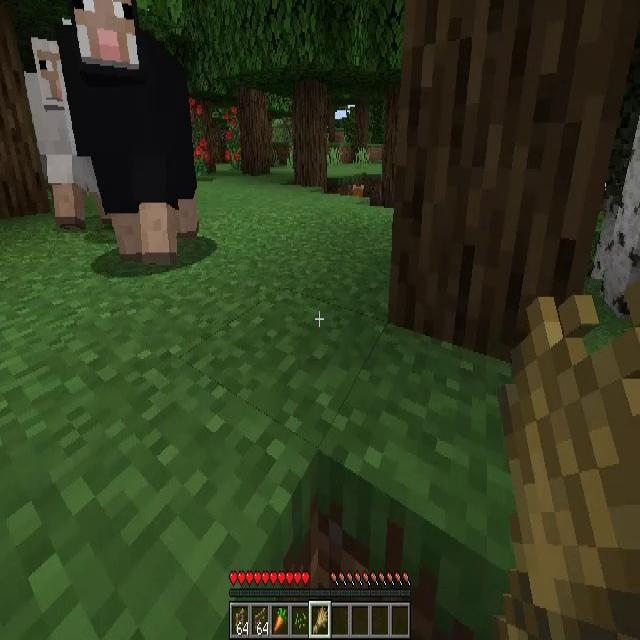sheep: (62, 0, 197, 263), (25, 38, 105, 232)
